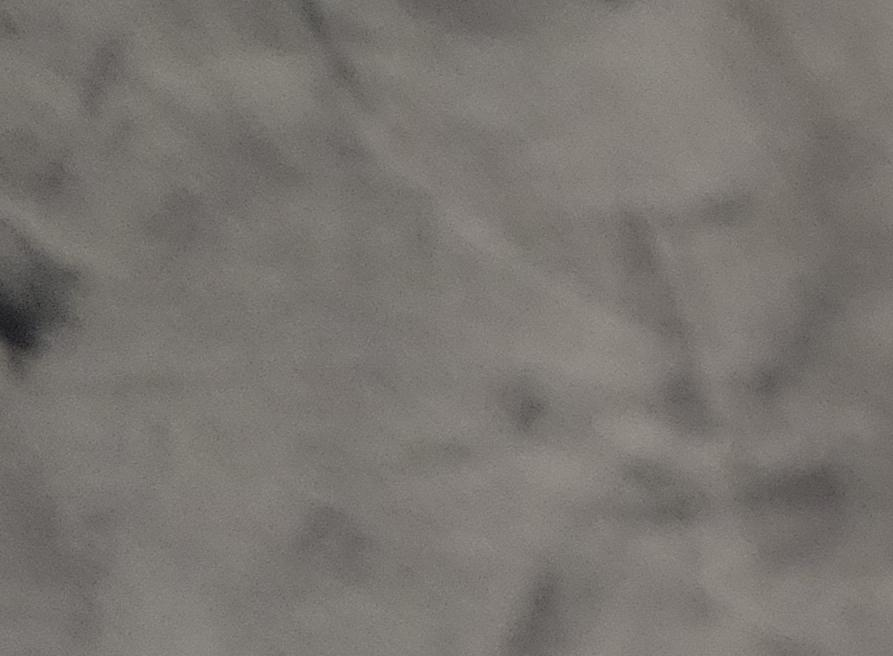Chip: (1, 371, 640, 656)
